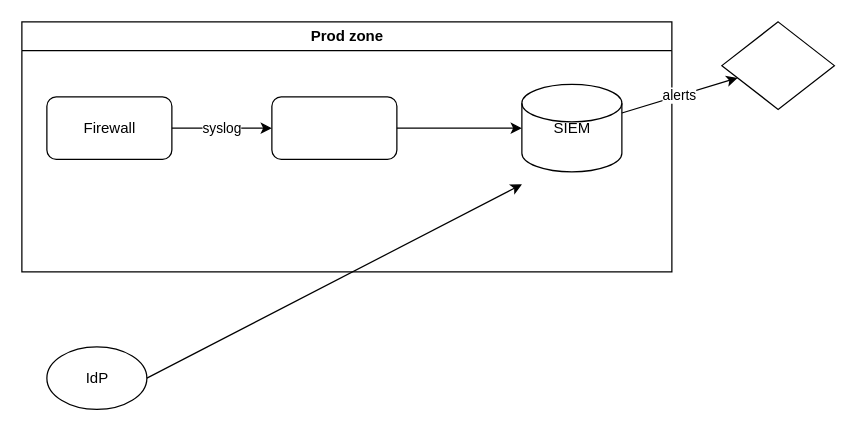
The diagram is 856 pixels wide and 431 high, and some of its shapes have lost their labels. Here are the shapes that lost their labels. From the top down, the centre of each, then its label:
(777,65): SOAR
(334,127): Log Collector
